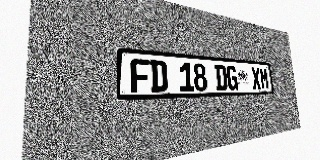1: (179, 62, 194, 91)
8: (193, 63, 208, 91)
D: (150, 60, 168, 92), (214, 64, 227, 91)
F: (130, 58, 150, 93)
G: (226, 65, 238, 90)
M: (259, 67, 270, 89)
X: (251, 67, 261, 90)
